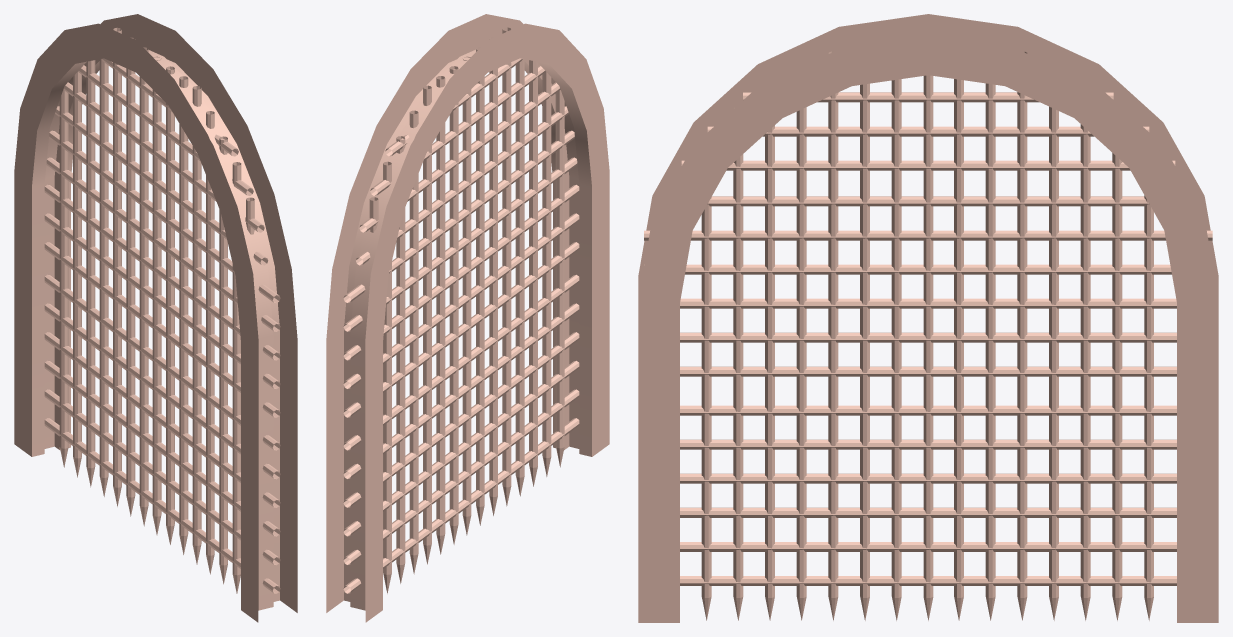
File: GateClosed.obj
3 renders of one model, left to right at view 1: azimuth 30°, elevation 25°; view 2: azimuth 150°, elevation 25°; view 3: azimuth 270°, elevation 25°, orthographic. The views are drawn at different scales.
Visible parts, largest first — view 1: group223_polySurface2_Untitled; view 2: group223_polySurface2_Untitled; view 3: group223_polySurface2_Untitled.
Boxes of the visible parts, x1=… form: group223_polySurface2_Untitled: x1=14, y1=14, x2=297, y2=622; group223_polySurface2_Untitled: x1=326, y1=14, x2=609, y2=622; group223_polySurface2_Untitled: x1=638, y1=14, x2=1218, y2=622.
Bounding box in the file's own units: 0.8589 × 10.47 × 9.25.
2 materials, 2 textured.
